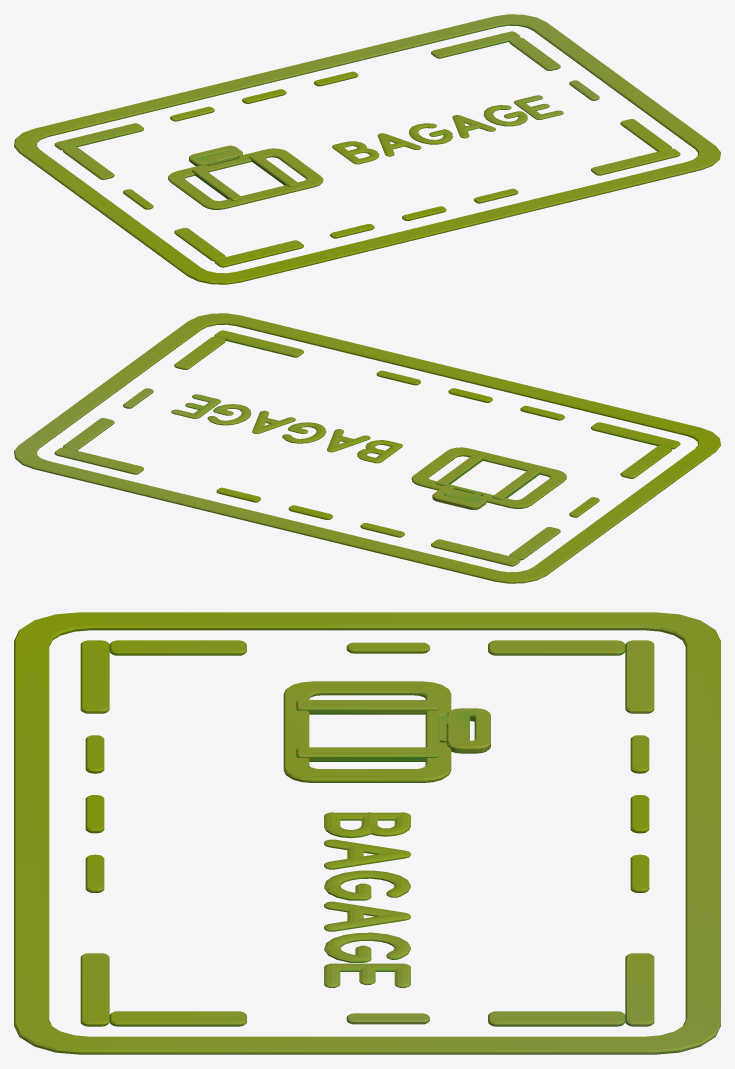
File: Service_ZoneMark_Luggage.fbx
The picture shows the model from 3 angles, top to bottom: view 1: azimuth 30°, elevation 25°; view 2: azimuth 150°, elevation 25°; view 3: azimuth 270°, elevation 25°; orthographic projection. The views are drawn at different scales.
Parts seen in each view (by area): view 1: Service_ZoneMark_Luggage; view 2: Service_ZoneMark_Luggage; view 3: Service_ZoneMark_Luggage.
Boxes of the visible parts, x1,y1,x2,y2 form: Service_ZoneMark_Luggage: [14, 14, 720, 284]; Service_ZoneMark_Luggage: [14, 313, 720, 583]; Service_ZoneMark_Luggage: [14, 612, 720, 1054].
Size of the model in its own units: 2.5 by 0.019 by 1.7.
